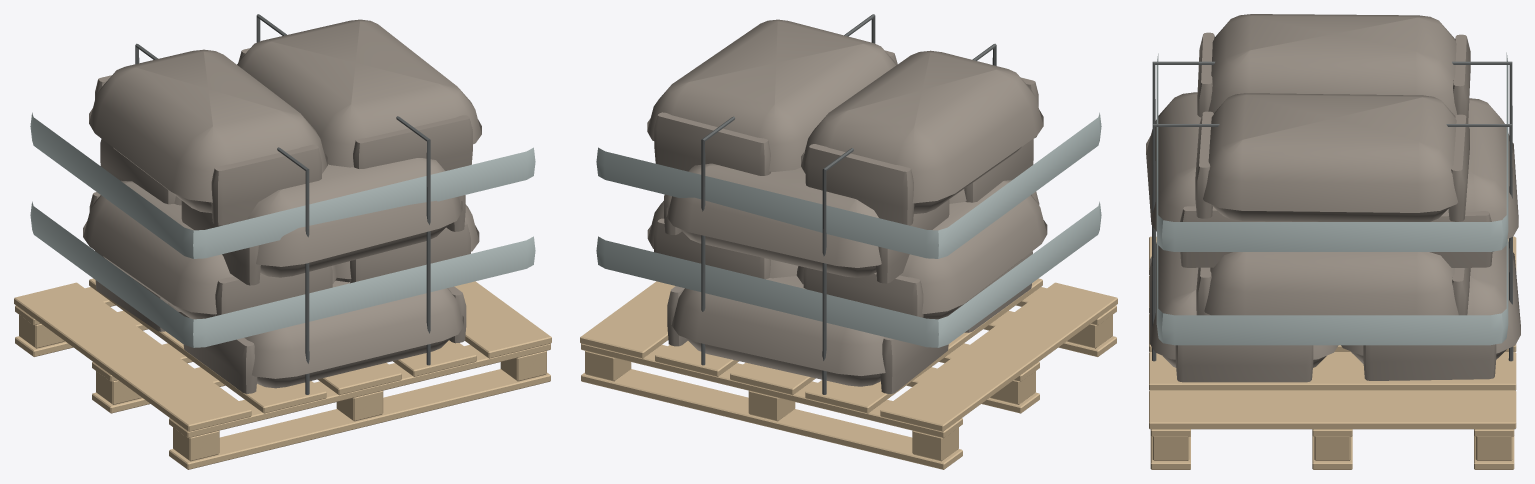
File: garden-centre-and-florist-compost-bag-pallet-12259113__17754.glb
3 renders of one model, left to right at view 1: azimuth 30°, elevation 25°; view 2: azimuth 150°, elevation 25°; view 3: azimuth 270°, elevation 25°, orthographic. The views are drawn at different scales.
Visible parts, largest first — view 1: compost-bag-pallet; view 2: compost-bag-pallet; view 3: compost-bag-pallet.
Boxes of the visible parts, bbox=[...] form: compost-bag-pallet: bbox=[14, 14, 551, 469]; compost-bag-pallet: bbox=[580, 14, 1117, 469]; compost-bag-pallet: bbox=[1146, 14, 1520, 469].
Size of the model in its own units: 1.2 by 0.9179 by 1.02.
